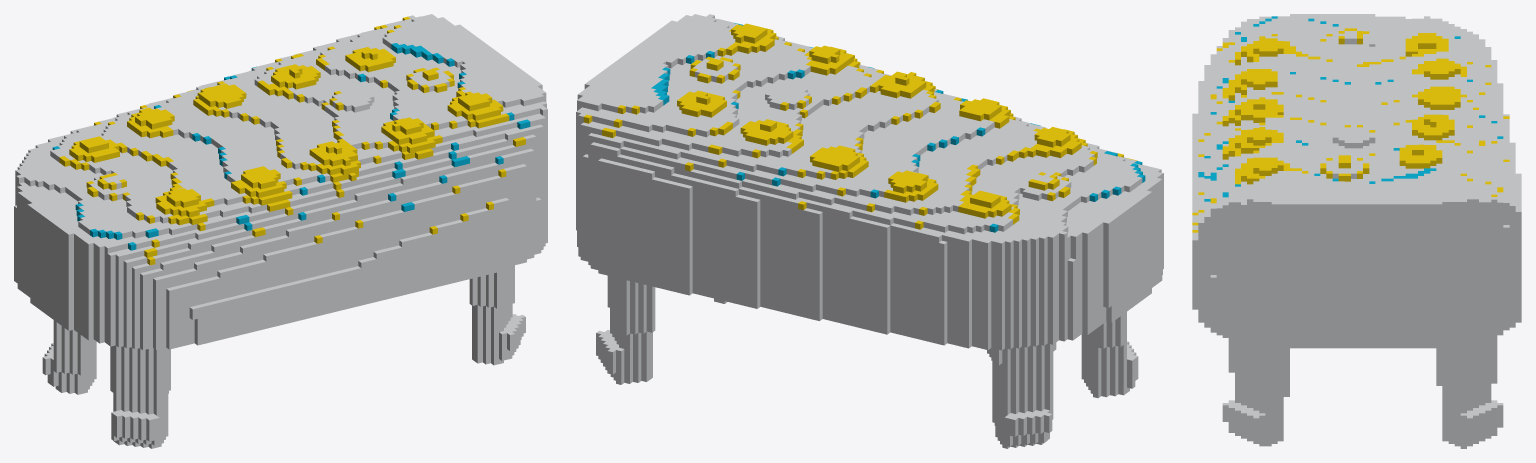
3 renders of one model, left to right at view 1: azimuth 30°, elevation 25°; view 2: azimuth 150°, elevation 25°; view 3: azimuth 270°, elevation 25°, orthographic. The views are drawn at different scales.
Visible parts, largest first — view 1: =>[0:1:1:990], =>[0:1:1:260], =>[0:1:1:505], =>[0:1:1:227], =>[0:1:1:522], =>[0:1:1:318], =>[0:1:1:1016], =>[0:1:1:503], =>[0:1:1:508], =>[0:1:1:509], =>[0:1:1:524], =>[0:1:1:1106] (+36 smaller); view 2: =>[0:1:1:446], =>[0:1:1:1040], =>[0:1:1:883], =>[0:1:1:864], =>[0:1:1:530], =>[0:1:1:260], =>[0:1:1:227], =>[0:1:1:978], =>[0:1:1:1505], =>[0:1:1:524], =>[0:1:1:1016], =>[0:1:1:318] (+24 smaller); view 3: =>[0:1:1:792], =>[0:1:1:444], =>[0:1:1:443], =>[0:1:1:227], =>[0:1:1:1320], =>[0:1:1:538], =>[0:1:1:539], =>[0:1:1:1016], =>[0:1:1:318], =>[0:1:1:1321], =>[0:1:1:2232], =>[0:1:1:1513] (+58 smaller).
Boxes of the visible parts, x1,y1,x2,y2 form: =>[0:1:1:990]: [197, 233, 504, 345]; =>[0:1:1:260]: [30, 207, 68, 330]; =>[0:1:1:505]: [189, 245, 358, 306]; =>[0:1:1:227]: [412, 14, 543, 100]; =>[0:1:1:522]: [74, 234, 88, 340]; =>[0:1:1:318]: [243, 87, 309, 127]; =>[0:1:1:1016]: [182, 111, 256, 148]; =>[0:1:1:503]: [504, 214, 526, 267]; =>[0:1:1:508]: [506, 166, 526, 218]; =>[0:1:1:509]: [399, 204, 434, 239]; =>[0:1:1:524]: [17, 192, 31, 279]; =>[0:1:1:1106]: [524, 151, 534, 259]; =>[0:1:1:446]: [598, 166, 689, 295]; =>[0:1:1:1040]: [692, 186, 757, 308]; =>[0:1:1:883]: [822, 212, 887, 334]; =>[0:1:1:864]: [760, 200, 819, 320]; =>[0:1:1:530]: [890, 231, 944, 345]; =>[0:1:1:260]: [1111, 192, 1151, 322]; =>[0:1:1:227]: [577, 14, 715, 105]; =>[0:1:1:978]: [947, 236, 968, 348]; =>[0:1:1:1505]: [972, 239, 987, 349]; =>[0:1:1:524]: [1087, 222, 1103, 317]; =>[0:1:1:1016]: [862, 134, 929, 176]; =>[0:1:1:318]: [792, 117, 867, 158]; =>[0:1:1:792]: [1277, 204, 1442, 348]; =>[0:1:1:444]: [1442, 202, 1466, 345]; =>[0:1:1:443]: [1253, 235, 1277, 345]; =>[0:1:1:227]: [1247, 189, 1478, 199]; =>[0:1:1:1320]: [1228, 202, 1240, 340]; =>[0:1:1:538]: [1241, 205, 1253, 342]; =>[0:1:1:539]: [1467, 199, 1478, 342]; =>[0:1:1:1016]: [1344, 84, 1436, 100]; =>[0:1:1:318]: [1351, 107, 1448, 122]; =>[0:1:1:1321]: [1479, 202, 1485, 340]; =>[0:1:1:2232]: [1497, 202, 1503, 335]; =>[0:1:1:1513]: [1222, 205, 1228, 337].
Bounding box in the file's own units: 39.24 × 20.7 × 23.29.
